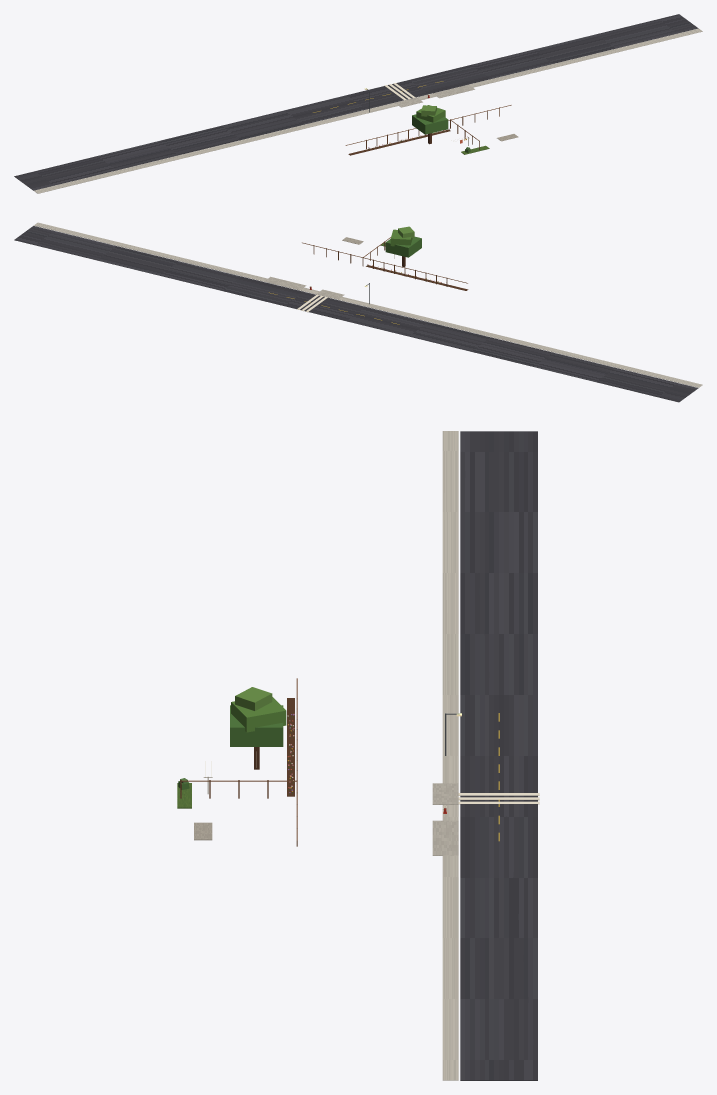
File: structure.glb
The picture shows the model from 3 angles, top to bottom: view 1: azimuth 30°, elevation 25°; view 2: azimuth 150°, elevation 25°; view 3: azimuth 270°, elevation 25°; orthographic projection. The views are drawn at different scales.
Parts seen in each view (by area): view 1: Box157, Box166, Box19; view 2: Box157, Box166, Box19; view 3: Box157, Box166, Box19, Box20.
Part boxes in pixels (x1=…): Box157: x1=14, y1=14, x2=698, y2=190; Box166: x1=34, y1=28, x2=702, y2=193; Box19: x1=412, y1=114, x2=448, y2=134; Box157: x1=14, y1=226, x2=698, y2=402; Box166: x1=34, y1=222, x2=702, y2=387; Box19: x1=385, y1=236, x2=421, y2=257; Box157: x1=460, y1=431, x2=537, y2=1080; Box166: x1=442, y1=431, x2=458, y2=1080; Box19: x1=230, y1=705, x2=283, y2=746; Box20: x1=231, y1=697, x2=286, y2=732.
Size of the model in its own units: 152 by 8 by 35.85.
Materials: 22 (5 with a texture image).
